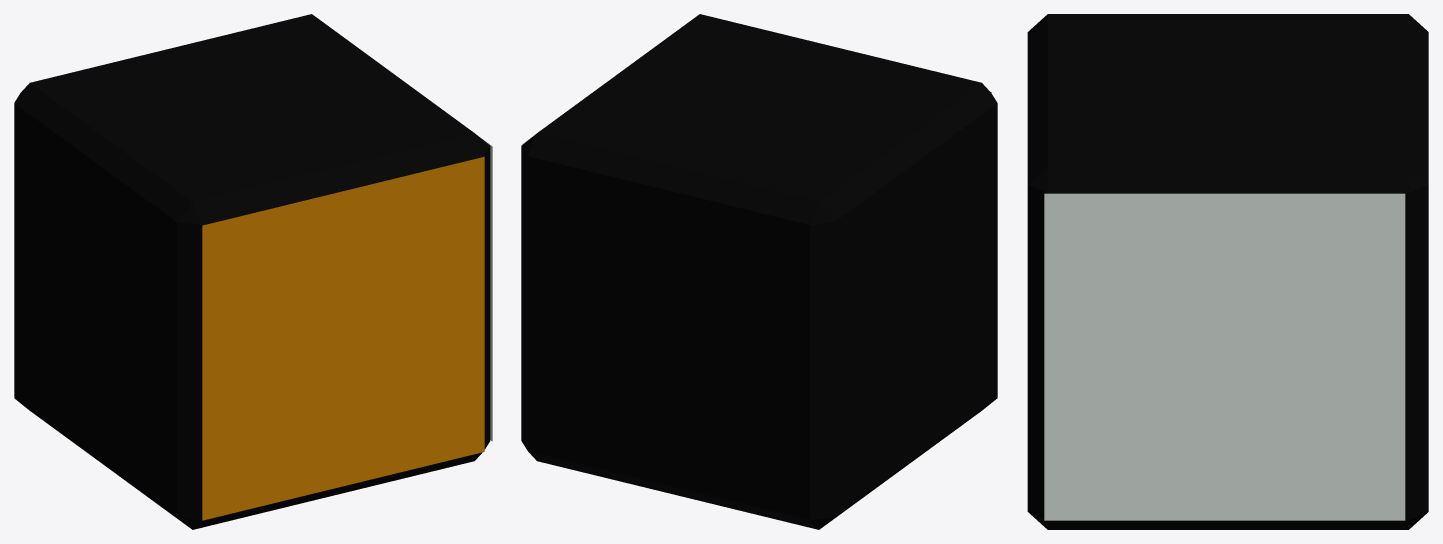
Rendered from rubic12.obj.
3 renders of one model, left to right at view 1: azimuth 30°, elevation 25°; view 2: azimuth 150°, elevation 25°; view 3: azimuth 270°, elevation 25°, orthographic. The views are drawn at different scales.
Parts seen in each view (by area): view 1: Cube.013_Cube.014; view 2: Cube.013_Cube.014; view 3: Cube.013_Cube.014.
Boxes of the visible parts, box(x1,y1,x2,y2) form: Cube.013_Cube.014: box(14, 14, 492, 529); Cube.013_Cube.014: box(521, 14, 997, 529); Cube.013_Cube.014: box(1027, 14, 1428, 529).
Bounding box in the file's own units: 2.01 × 2 × 2.01.
